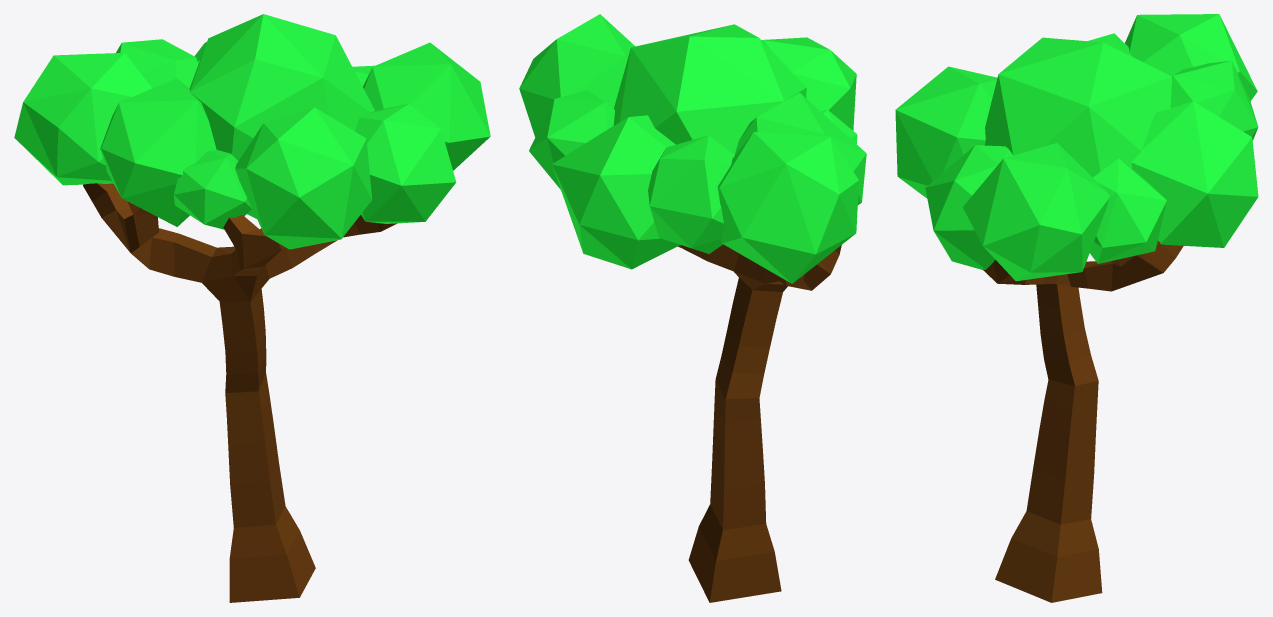
Rendered from DRZEWO3.fbx.
3 renders of one model, left to right at view 1: azimuth 30°, elevation 25°; view 2: azimuth 150°, elevation 25°; view 3: azimuth 270°, elevation 25°, orthographic.
Parts seen in each view (by area): view 1: Cube, Sphere.004, Sphere.007, Sphere.005, Sphere.009, Sphere.001, Sphere, Sphere.008, Sphere.006; view 2: Cube, Sphere.005, Sphere.004, Sphere.002, Sphere.006, Sphere, Sphere.007, Sphere.003, Sphere.009; view 3: Cube, Sphere.004, Sphere, Sphere.002, Sphere.007, Sphere.005, Sphere.003, Sphere.001, Sphere.006.
Boxes of the visible parts, bbox=[...] form: Cube: bbox=[83, 183, 397, 602]; Sphere.004: bbox=[189, 14, 374, 218]; Sphere.007: bbox=[235, 107, 372, 249]; Sphere.005: bbox=[14, 52, 152, 185]; Sphere.009: bbox=[100, 78, 216, 226]; Sphere.001: bbox=[355, 104, 456, 223]; Sphere: bbox=[363, 42, 490, 170]; Sphere.008: bbox=[173, 149, 251, 229]; Sphere.006: bbox=[116, 39, 198, 88]; Cube: bbox=[678, 244, 841, 602]; Sphere.005: bbox=[717, 132, 858, 283]; Sphere.004: bbox=[613, 24, 806, 154]; Sphere.002: bbox=[552, 115, 679, 269]; Sphere.006: bbox=[648, 135, 734, 253]; Sphere: bbox=[519, 14, 635, 137]; Sphere.007: bbox=[762, 37, 856, 130]; Sphere.003: bbox=[529, 90, 614, 189]; Sphere.009: bbox=[735, 92, 866, 205]; Cube: bbox=[983, 241, 1183, 602]; Sphere.004: bbox=[984, 37, 1171, 177]; Sphere: bbox=[963, 143, 1109, 281]; Sphere.002: bbox=[1131, 101, 1258, 247]; Sphere.007: bbox=[895, 66, 997, 198]; Sphere.005: bbox=[1125, 14, 1257, 101]; Sphere.003: bbox=[1090, 158, 1166, 263]; Sphere.001: bbox=[925, 145, 1012, 269]; Sphere.006: bbox=[1170, 60, 1258, 140].
Bounding box in the file's own units: 630 × 879 × 516.
